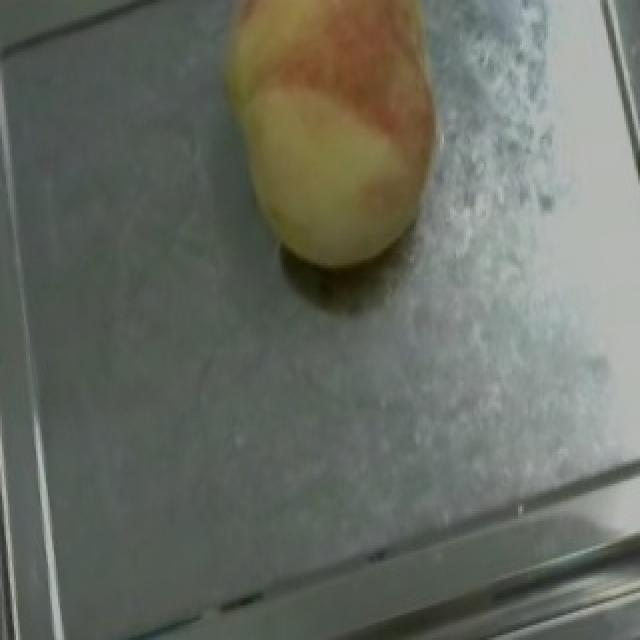Fruit: (186, 0, 476, 298)
